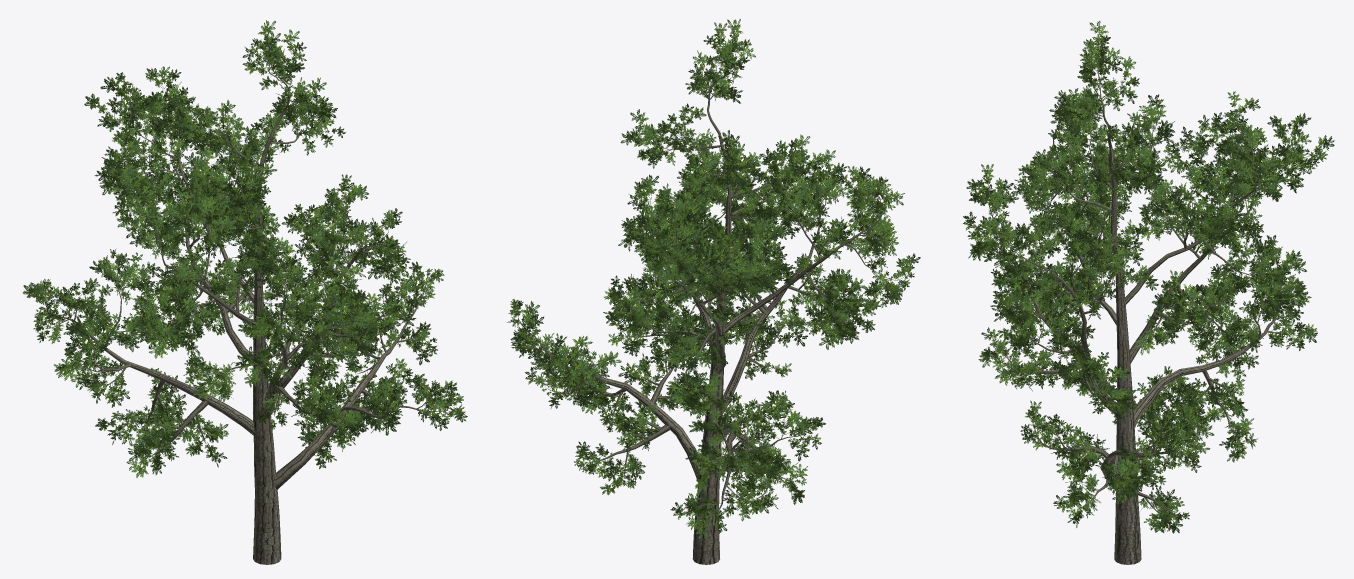
Rendered from ash_medium_02.glb.
3 renders of one model, left to right at view 1: azimuth 30°, elevation 25°; view 2: azimuth 150°, elevation 25°; view 3: azimuth 270°, elevation 25°, orthographic. The views are drawn at different scales.
Visible parts, largest first — view 1: Tree; view 2: Tree; view 3: Tree.
Boxes of the visible parts, box(x1,y1,x2,y2) form: Tree: box(23, 20, 467, 564); Tree: box(507, 19, 920, 564); Tree: box(963, 21, 1334, 564).
Size of the model in its own units: 60.45 by 85.92 by 56.51.
Materials: 2 (2 with a texture image).
